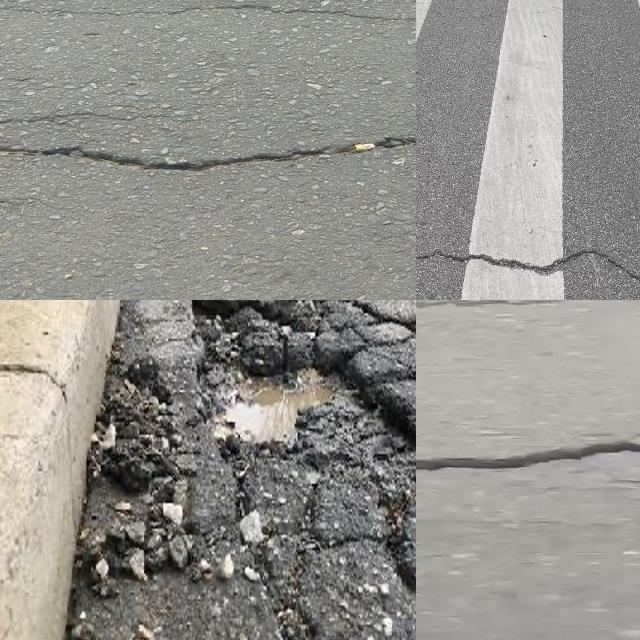Lubang: (192, 300, 416, 486)
Melintang: (0, 123, 416, 198), (416, 421, 640, 490), (416, 233, 640, 299)
